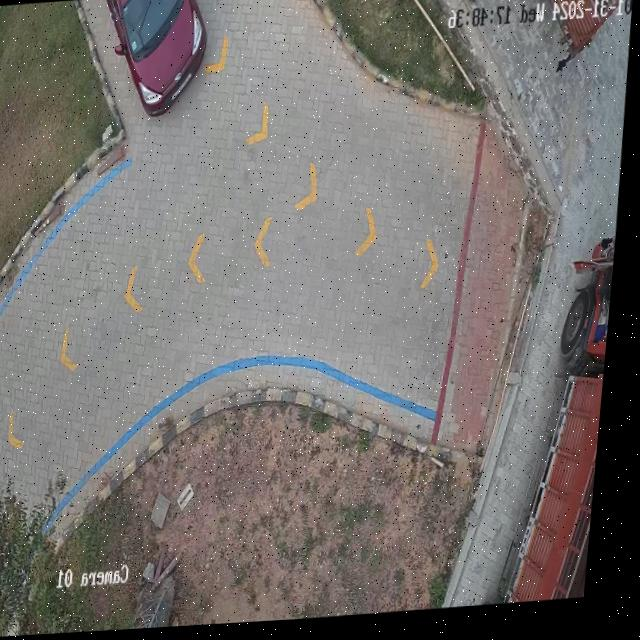car: (106, 0, 208, 116)
